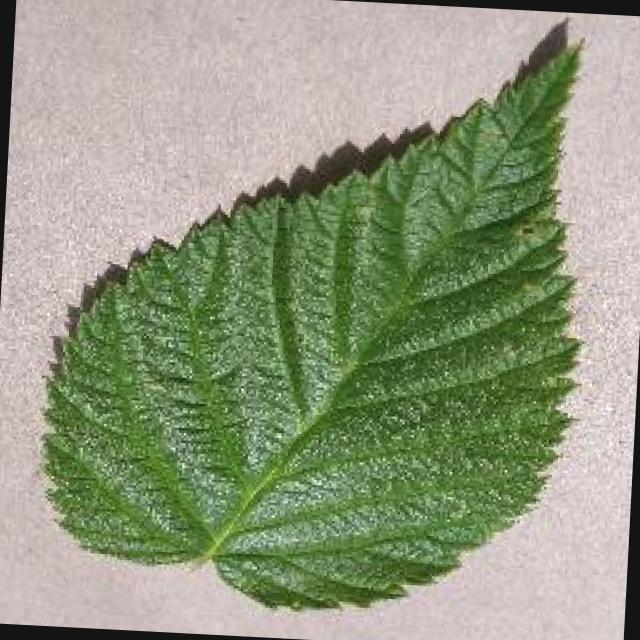healthy: (46, 48, 580, 606)
